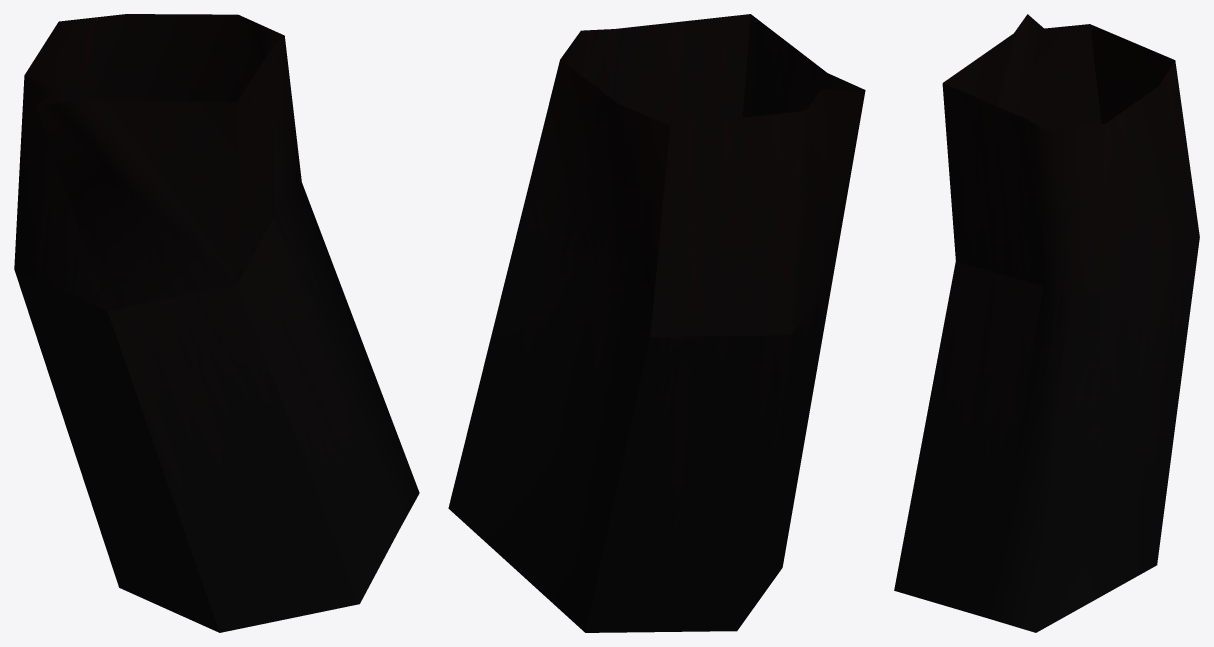
Rendered from jungle_palm_b2_low.glb.
3 renders of one model, left to right at view 1: azimuth 30°, elevation 25°; view 2: azimuth 150°, elevation 25°; view 3: azimuth 270°, elevation 25°, orthographic. The views are drawn at different scales.
Parts seen in each view (by area): view 1: jungle_palm_b2_low; view 2: jungle_palm_b2_low; view 3: jungle_palm_b2_low.
Part boxes in pixels (left/top/right/bottom): jungle_palm_b2_low: left=14, top=14, right=419, bottom=632; jungle_palm_b2_low: left=448, top=14, right=865, bottom=632; jungle_palm_b2_low: left=894, top=14, right=1199, bottom=632.
Bounding box in the file's own units: 0.9308 × 1.19 × 0.6922.
Materials: 1 (1 with a texture image).
